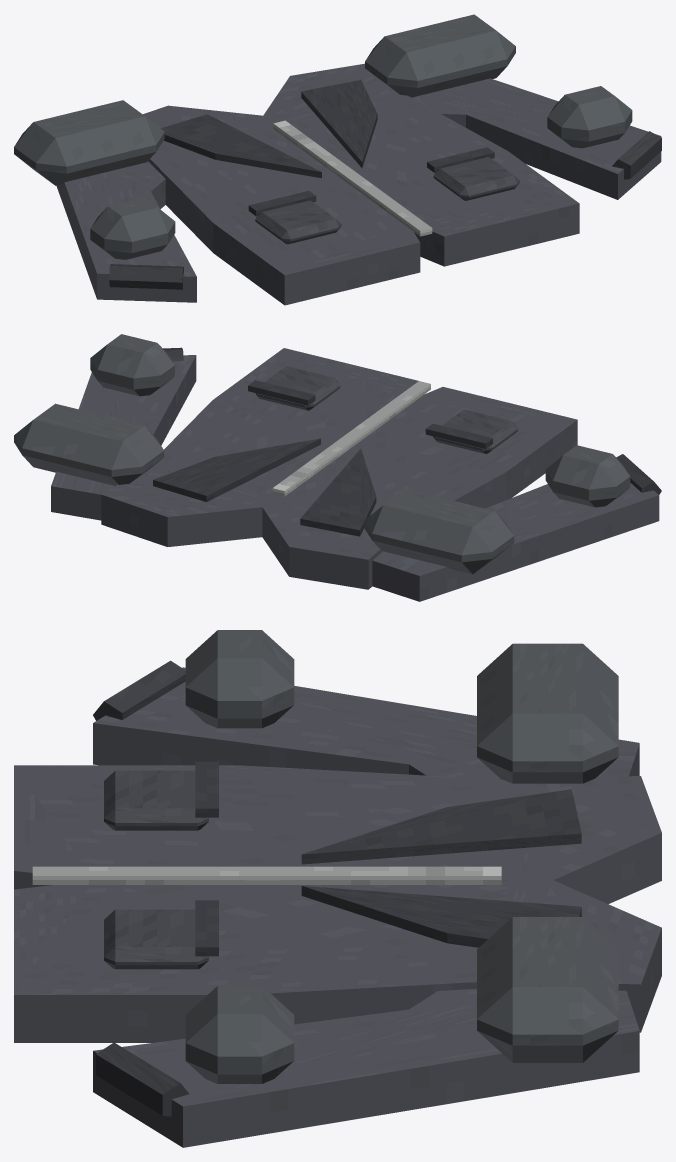
File: motorbike_armor.glb
The picture shows the model from 3 angles, top to bottom: view 1: azimuth 30°, elevation 25°; view 2: azimuth 150°, elevation 25°; view 3: azimuth 270°, elevation 25°; orthographic projection. The views are drawn at different scales.
Visible parts, largest first — view 1: block_coat body, block_sleeve (×2), block_molded shoulder pad (×2), block_lapel (×2), block_molded elbow pad (×2), block_patch pocket (×2), block_cuff 0 (×2), block_zipper track, block_pocket welt (×2); view 2: block_coat body, block_sleeve (×2), block_molded shoulder pad (×2), block_lapel (×2), block_molded elbow pad (×2), block_patch pocket (×2), block_zipper track, block_pocket welt (×2), block_cuff 0; view 3: block_coat body, block_sleeve (×2), block_molded shoulder pad (×2), block_lapel (×2), block_molded elbow pad (×2), block_patch pocket (×2), block_zipper track, block_cuff 0 (×2), block_pocket welt (×2).
Boxes of the visible parts, x1,y1,x2,y2 form: block_coat body: (143, 63, 579, 305); block_sleeve (×2): (56, 78, 661, 302); block_molded shoulder pad (×2): (14, 14, 515, 185); block_lapel (×2): (161, 80, 377, 178); block_molded elbow pad (×2): (90, 86, 632, 259); block_patch pocket (×2): (255, 157, 519, 244); block_cuff 0 (×2): (109, 131, 661, 289); block_zipper track: (273, 120, 432, 236); block_pocket welt (×2): (248, 147, 494, 216); block_coat body: (101, 348, 577, 589); block_sleeve (×2): (51, 355, 659, 601); block_molded shoulder pad (×2): (14, 403, 514, 574); block_lapel (×2): (153, 438, 376, 536); block_molded elbow pad (×2): (90, 334, 630, 507); block_patch pocket (×2): (255, 366, 517, 453); block_zipper track: (272, 381, 430, 496); block_pocket welt (×2): (248, 380, 492, 448); block_cuff 0: (616, 454, 661, 494); block_coat body: (14, 765, 661, 1042); block_sleeve (×2): (93, 667, 639, 1147); block_molded shoulder pad (×2): (477, 643, 618, 1062); block_lapel (×2): (301, 789, 581, 947); block_molded elbow pad (×2): (185, 630, 294, 1083); block_patch pocket (×2): (104, 770, 208, 969); block_zipper track: (32, 866, 501, 884); block_cuff 0 (×2): (93, 660, 189, 1116); block_pocket welt (×2): (195, 761, 218, 956).
Bounding box in the file's own units: 0.3339 × 0.04 × 0.2082.
1 material, 1 textured.
